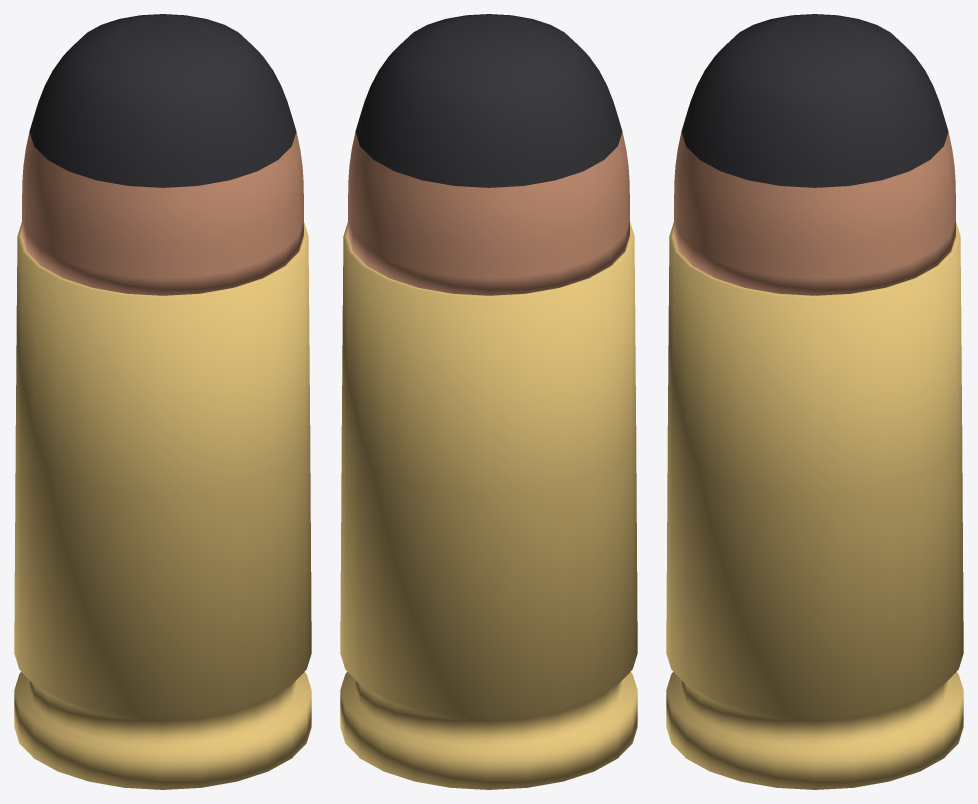
3 renders of one model, left to right at view 1: azimuth 30°, elevation 25°; view 2: azimuth 150°, elevation 25°; view 3: azimuth 270°, elevation 25°, orthographic.
Visible parts, largest first — view 1: vaina, punta, bala_cuerpo; view 2: vaina, punta, bala_cuerpo; view 3: vaina, punta, bala_cuerpo.
Boxes of the visible parts, x1,y1,x2,y2 form: vaina: (14, 222, 311, 789); punta: (29, 14, 296, 187); bala_cuerpo: (22, 132, 303, 295); vaina: (340, 222, 637, 789); punta: (355, 14, 622, 187); bala_cuerpo: (348, 132, 629, 295); vaina: (666, 222, 963, 789); punta: (681, 14, 948, 187); bala_cuerpo: (674, 132, 955, 295).
Size of the model in its own units: 0.0095 by 0.0244 by 0.0095.
